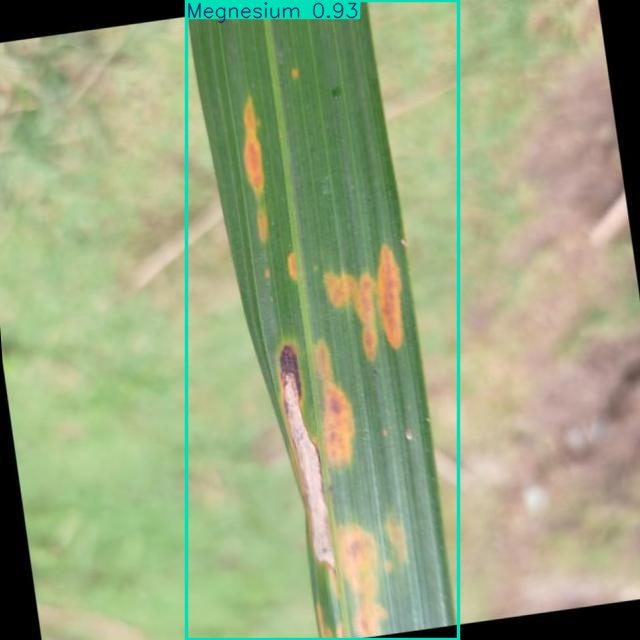Megnesium: (186, 0, 459, 640)
